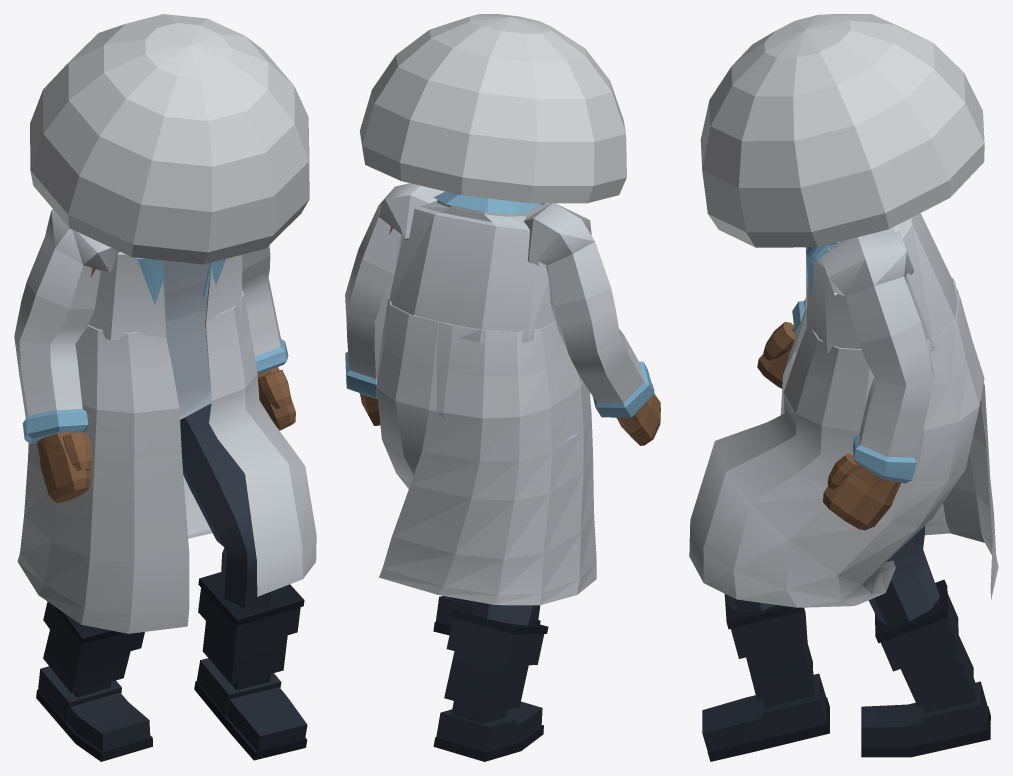
File: city-commuter-52a53f__walk7.glb
3 renders of one model, left to right at view 1: azimuth 30°, elevation 25°; view 2: azimuth 150°, elevation 25°; view 3: azimuth 270°, elevation 25°, orthographic. The views are drawn at different scales.
Parts seen in each view (by area): view 1: city-commuter-52a53f__walk7; view 2: city-commuter-52a53f__walk7; view 3: city-commuter-52a53f__walk7.
Boxes of the visible parts, <box> form: city-commuter-52a53f__walk7: <box>14,14,316,761</box>; city-commuter-52a53f__walk7: <box>345,14,660,761</box>; city-commuter-52a53f__walk7: <box>689,14,998,761</box>.
Bounding box in the file's own units: 0.7831 × 1.85 × 0.7015.
